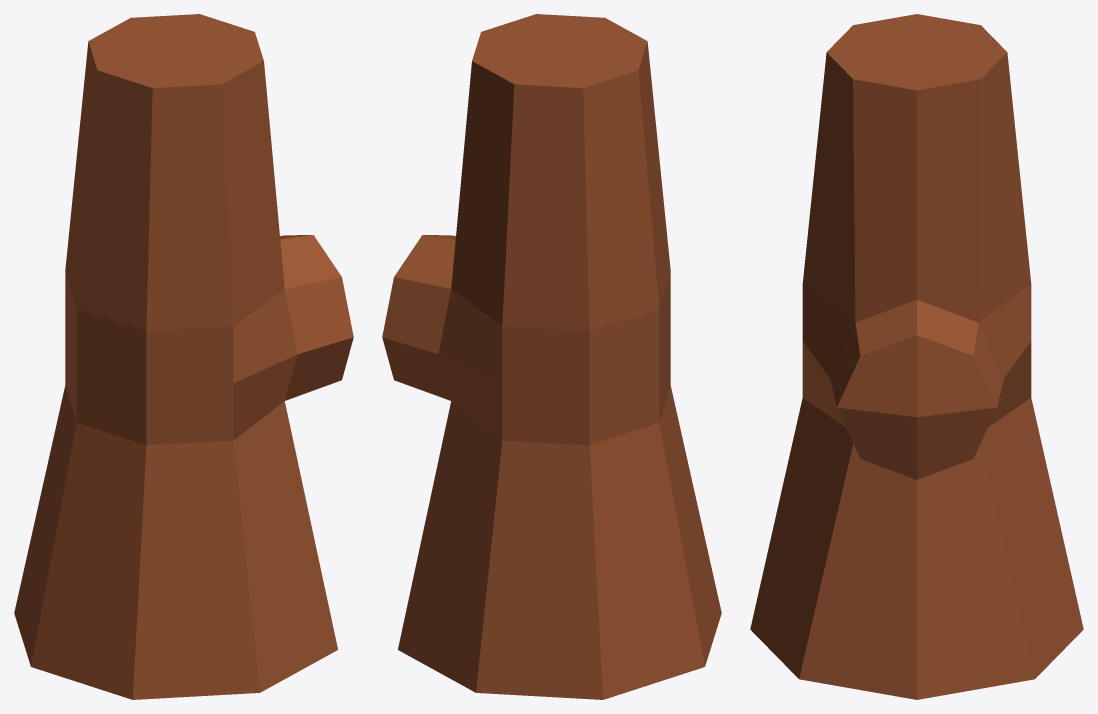
The model's file is cone tree  bark.fbx.
The picture shows the model from 3 angles, left to right: view 1: azimuth 30°, elevation 25°; view 2: azimuth 150°, elevation 25°; view 3: azimuth 270°, elevation 25°; orthographic projection.
Visible parts, largest first — view 1: Cone Tree.001; view 2: Cone Tree.001; view 3: Cone Tree.001.
Boxes of the visible parts, x1,y1,x2,y2 form: Cone Tree.001: [14, 14, 353, 699]; Cone Tree.001: [382, 14, 721, 699]; Cone Tree.001: [750, 14, 1083, 699].
Size of the model in its own units: 55.41 by 102 by 53.17.
